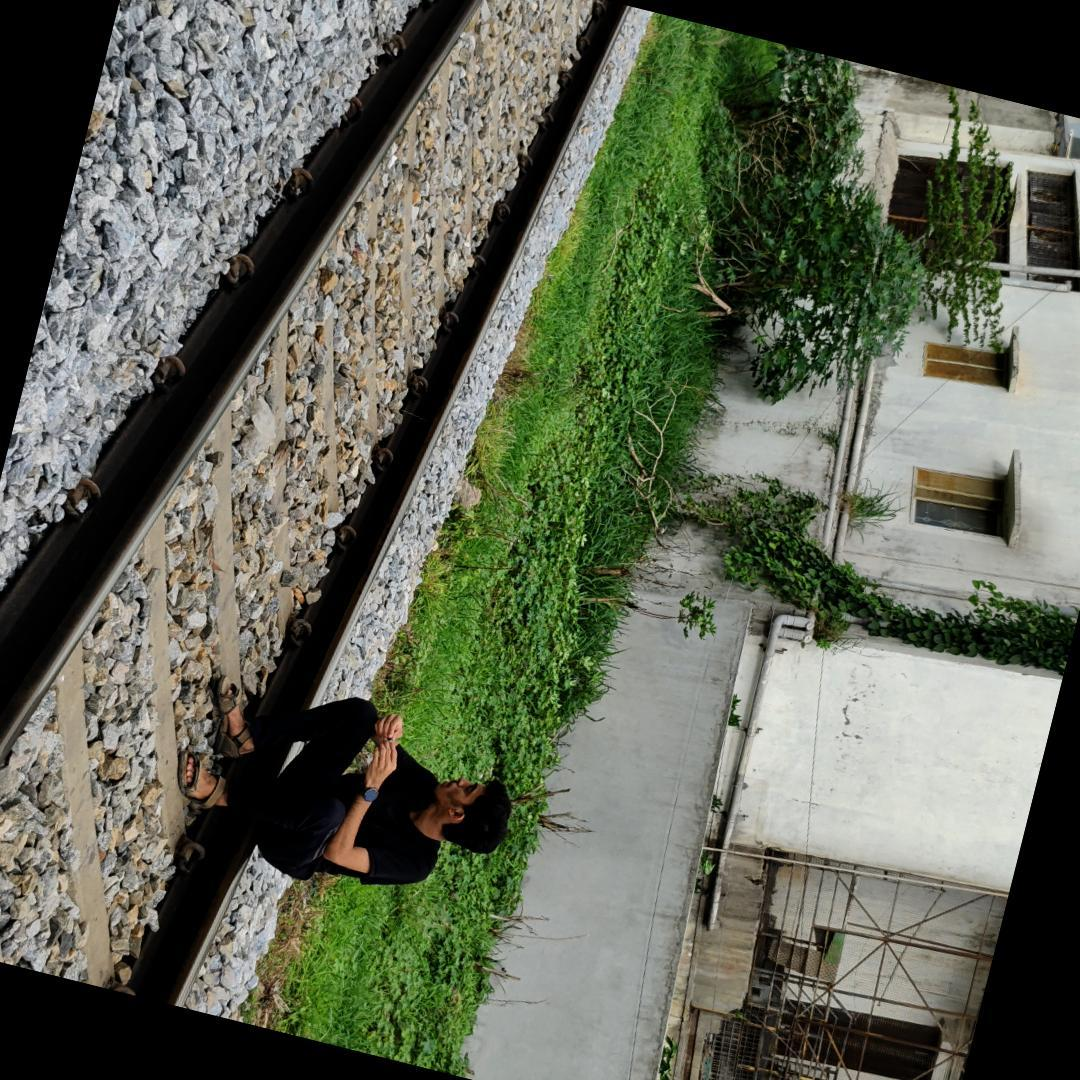sitting: (162, 666, 523, 896)
